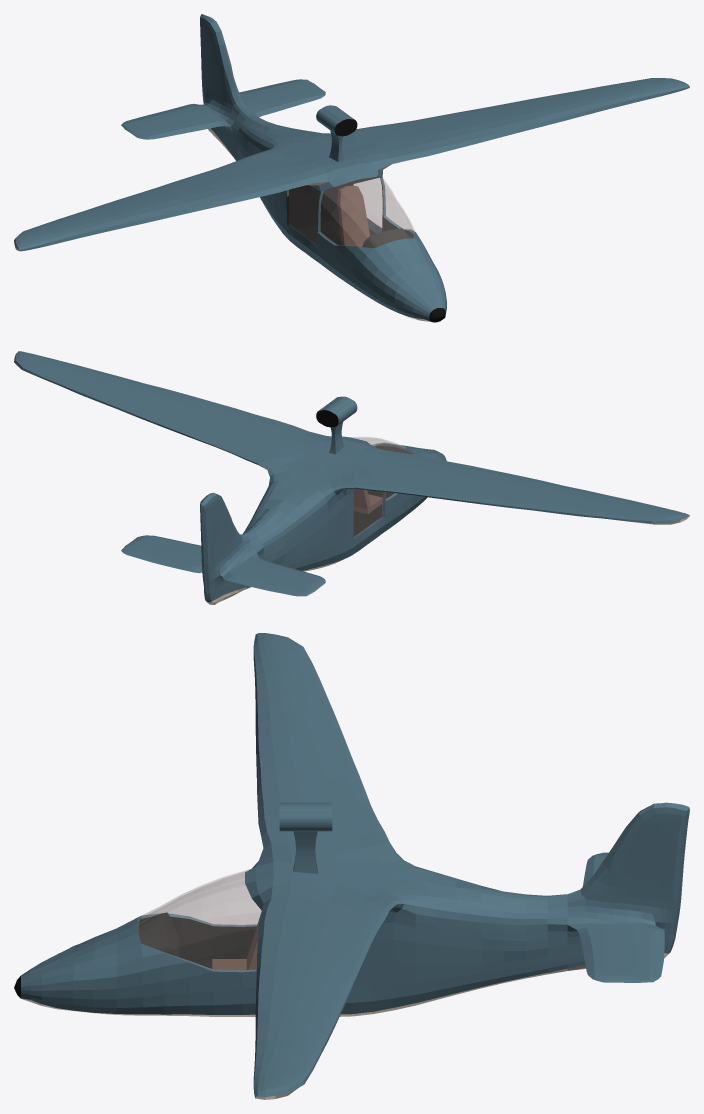
File: Aircraft 2 body.glb
3 renders of one model, top to bottom at view 1: azimuth 30°, elevation 25°; view 2: azimuth 150°, elevation 25°; view 3: azimuth 270°, elevation 25°, orthographic. The views are drawn at different scales.
Visible parts, largest first — view 1: Aircraft 2; view 2: Aircraft 2; view 3: Aircraft 2.
Part boxes in pixels (x1,y1,x2,y2): Aircraft 2: (14, 14, 689, 322); Aircraft 2: (14, 351, 689, 604); Aircraft 2: (14, 633, 689, 1099).
Size of the model in its own units: 12.79 by 2.6 by 7.9.
